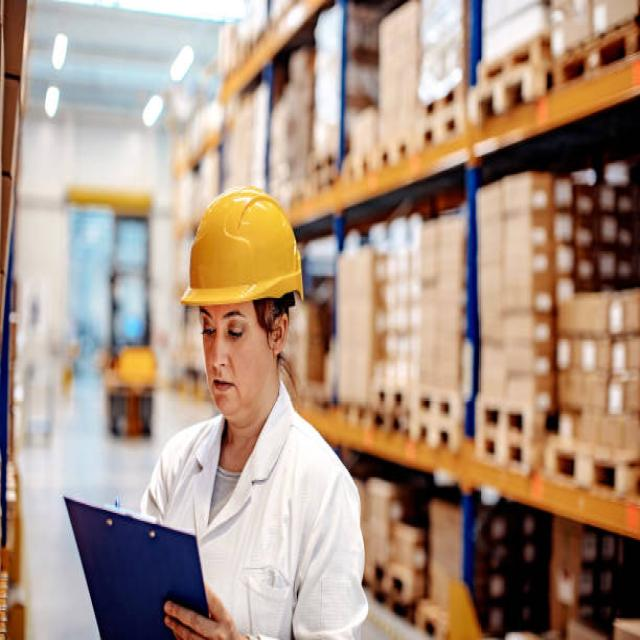Wooden-Pallets: (541, 437, 632, 528), (457, 57, 541, 135), (455, 432, 530, 488)
